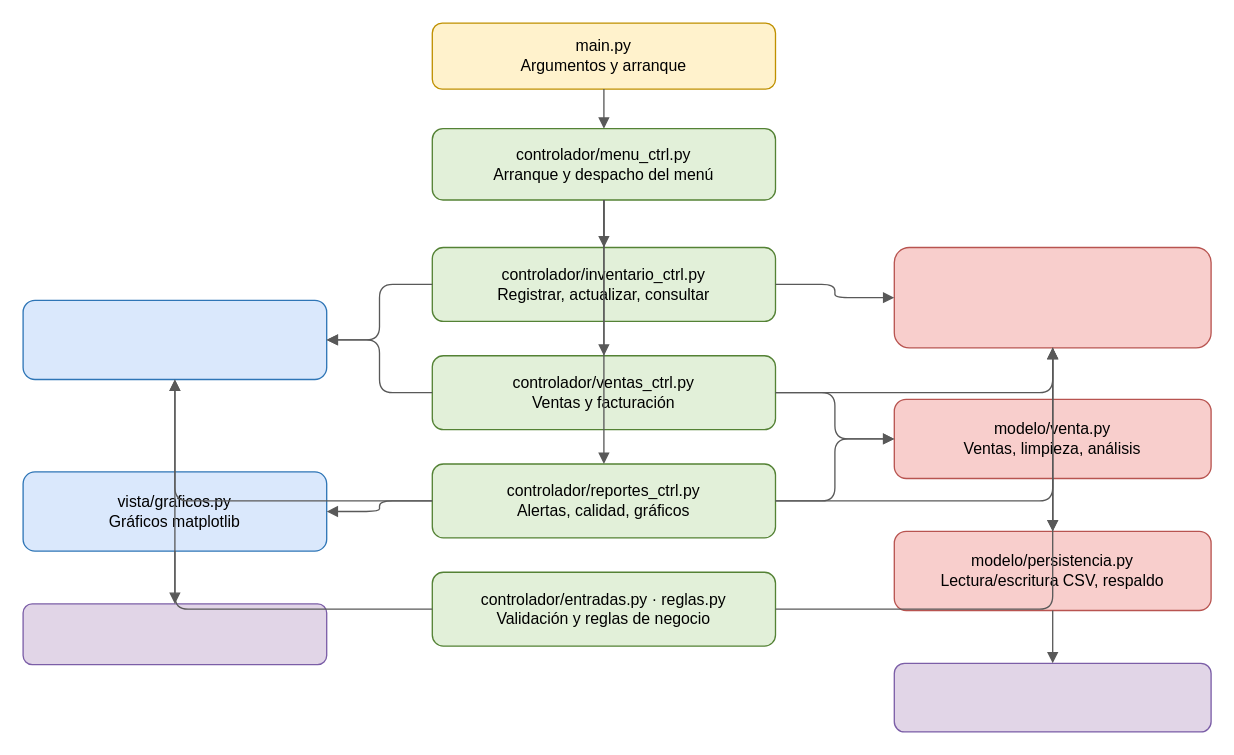
Some shapes in this 1234 by 755 pixel diagram are drawn without their labels. Each missing label, with the box of its shape:
datos/ inventario.csv · ventas.csv: (893, 662, 1211, 732)
modelo/producto.py · alerta.py · fecha.py Catálogo, limpieza, filtros: (893, 246, 1211, 348)
reportes_graficos/*.png: (22, 603, 327, 665)
vista/consola.py Menús, tablas, mensajes: (22, 299, 327, 380)
